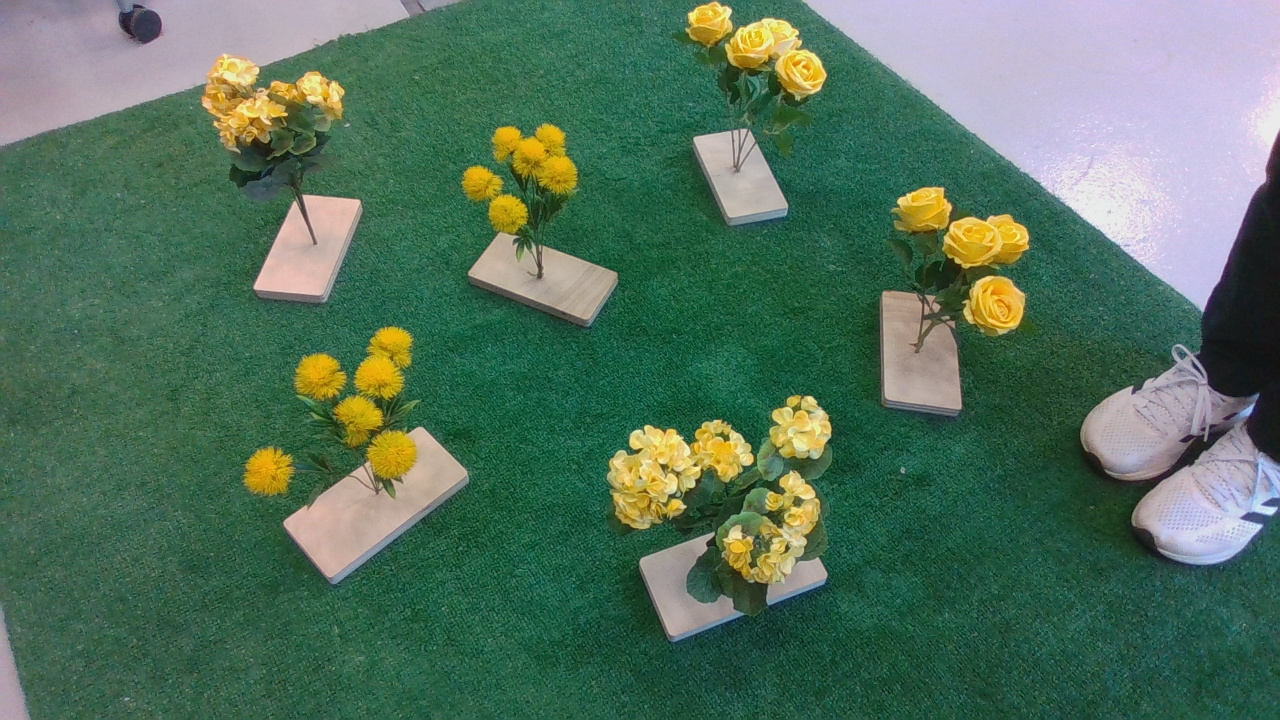dandelion: (241, 327, 448, 512), (463, 122, 598, 256)
geranium: (604, 390, 855, 628), (199, 49, 359, 213)
rose: (872, 172, 1044, 362), (669, 2, 840, 169)
